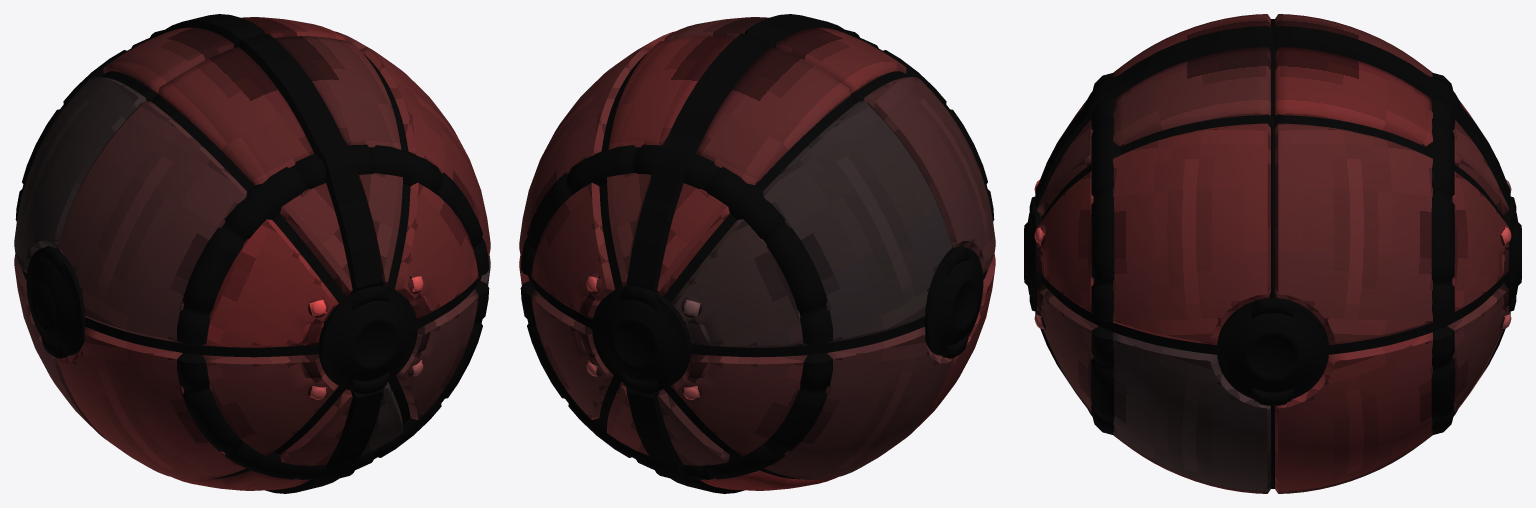
File: Ball_Breakout_SM.glb
The picture shows the model from 3 angles, left to right: view 1: azimuth 30°, elevation 25°; view 2: azimuth 150°, elevation 25°; view 3: azimuth 270°, elevation 25°; orthographic projection.
Visible parts, largest first — view 1: Ball_Breakout_SM; view 2: Ball_Breakout_SM; view 3: Ball_Breakout_SM.
Part boxes in pixels (box(x1,y1,x2,y2)): Ball_Breakout_SM: box(14, 14, 490, 493); Ball_Breakout_SM: box(519, 14, 995, 493); Ball_Breakout_SM: box(1024, 14, 1521, 493).
Size of the model in its own units: 1.95 by 1.97 by 2.
1 material, 1 textured.
